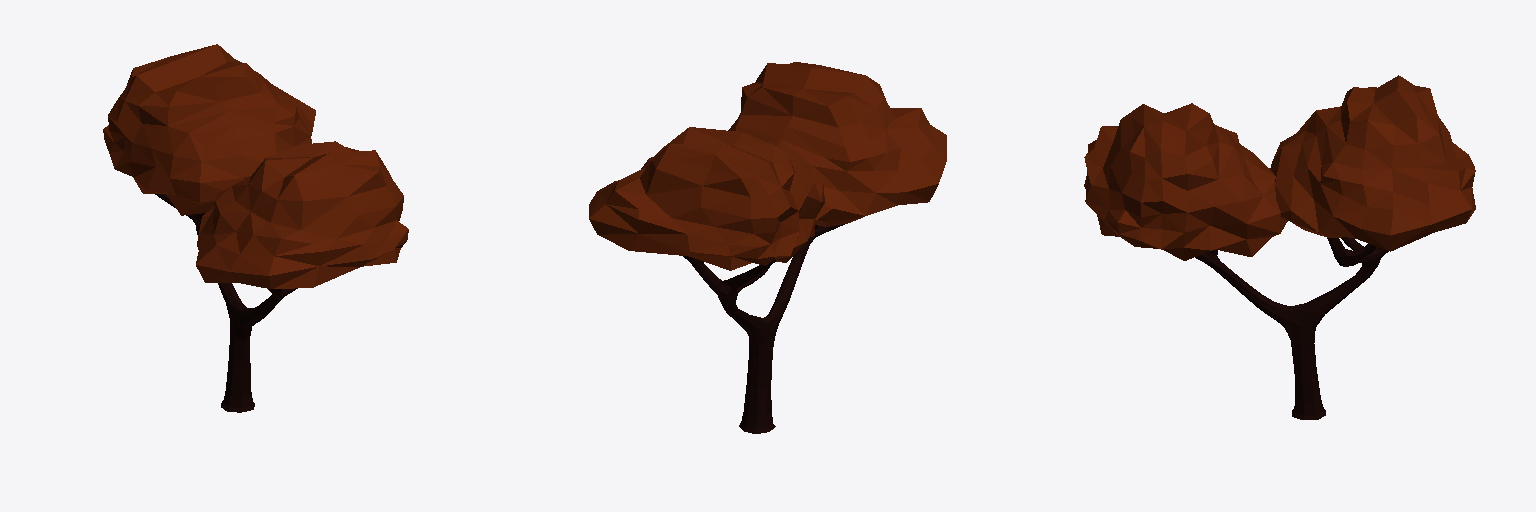
File: CommonTree_Autumn_1_Cube.obj
The picture shows the model from 3 angles: view 1: azimuth 30°, elevation 25°; view 2: azimuth 150°, elevation 25°; view 3: azimuth 270°, elevation 25°; orthographic projection.
Parts seen in each view (by area): view 1: CommonTree_Autumn_1_Cube.089; view 2: CommonTree_Autumn_1_Cube.089; view 3: CommonTree_Autumn_1_Cube.089.
Part boxes in pixels (x1,y1,x2,y2): CommonTree_Autumn_1_Cube.089: (103,44,408,412); CommonTree_Autumn_1_Cube.089: (589,62,946,433); CommonTree_Autumn_1_Cube.089: (1084,75,1475,419).
Size of the model in its own units: 1.89 by 2.48 by 2.77.